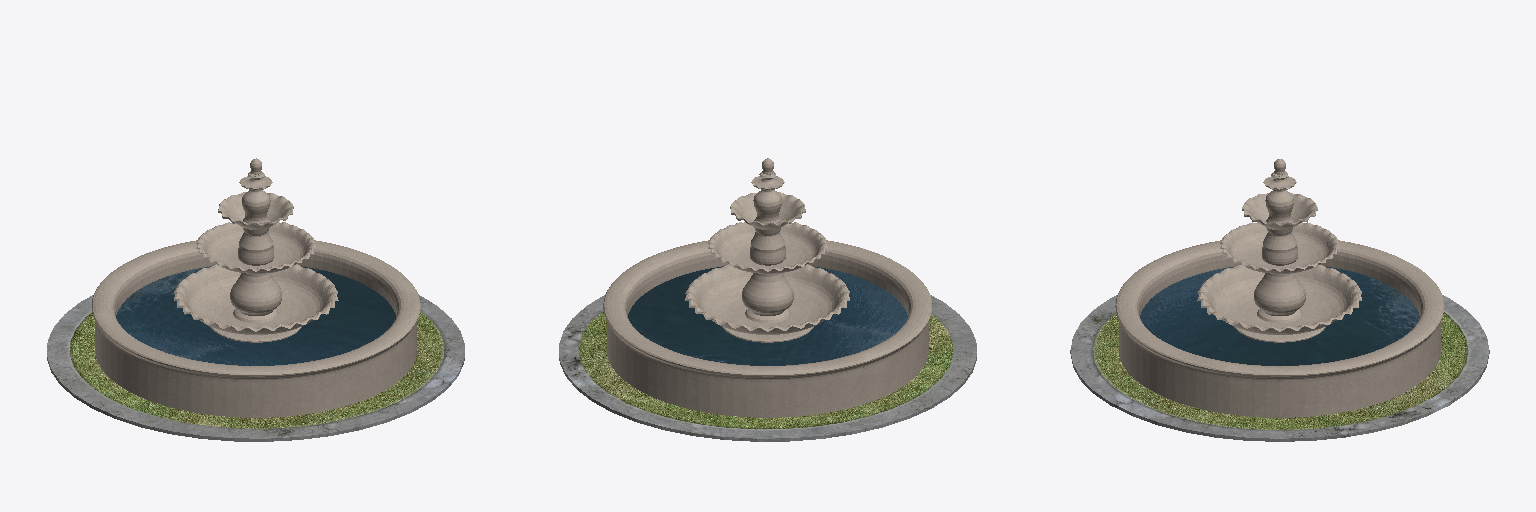
3 views of the same model, side by side, from view 1: azimuth 30°, elevation 25°; view 2: azimuth 150°, elevation 25°; view 3: azimuth 270°, elevation 25° (orthographic).
Visible parts, largest first — view 1: Object003, Object002, Object006, Object001, Object004, Object005, RigModels_Fountain; view 2: Object003, Object002, Object006, Object001, Object004, Object005, RigModels_Fountain; view 3: Object003, Object002, Object006, Object001, Object004, Object005, RigModels_Fountain.
Part boxes in pixels (bbox=[...]): Object003: bbox=[92, 240, 420, 417]; Object002: bbox=[47, 294, 464, 441]; Object006: bbox=[116, 266, 395, 365]; Object001: bbox=[196, 158, 315, 322]; Object004: bbox=[174, 264, 338, 331]; Object005: bbox=[108, 247, 403, 365]; RigModels_Fountain: bbox=[199, 319, 312, 342]; Object003: bbox=[603, 240, 931, 417]; Object002: bbox=[559, 294, 976, 441]; Object006: bbox=[628, 266, 907, 365]; Object001: bbox=[708, 158, 827, 322]; Object004: bbox=[685, 264, 849, 331]; Object005: bbox=[620, 247, 915, 365]; RigModels_Fountain: bbox=[711, 293, 849, 342]; Object003: bbox=[1115, 240, 1444, 417]; Object002: bbox=[1070, 295, 1489, 441]; Object006: bbox=[1140, 267, 1419, 365]; Object001: bbox=[1220, 159, 1339, 322]; Object004: bbox=[1197, 265, 1361, 331]; Object005: bbox=[1132, 247, 1427, 366]; RigModels_Fountain: bbox=[1210, 314, 1336, 342].
Size of the model in its own units: 250 by 128 by 250.
7 materials, 7 textured.